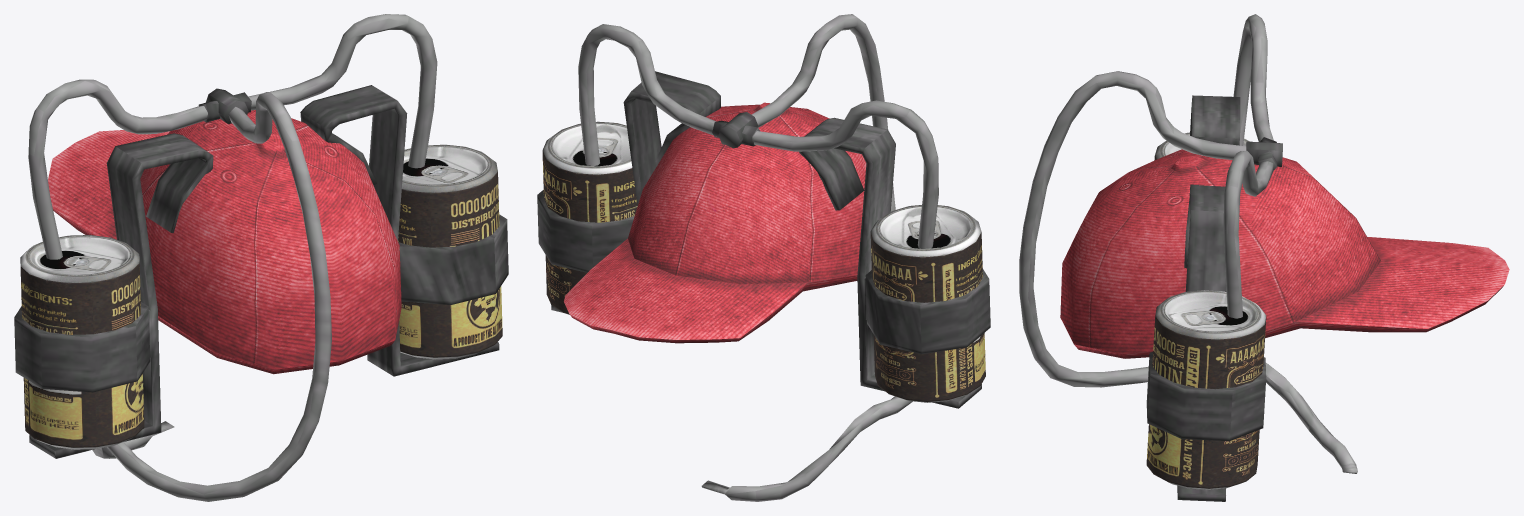
Rendered from beer_hat.glb.
3 views of the same model, side by side, from view 1: azimuth 30°, elevation 25°; view 2: azimuth 150°, elevation 25°; view 3: azimuth 270°, elevation 25° (orthographic). The views are drawn at different scales.
Parts seen in each view (by area): view 1: cosmetic_beer hat; view 2: cosmetic_beer hat; view 3: cosmetic_beer hat.
Part boxes in pixels (left/top/right/bottom): cosmetic_beer hat: left=14, top=14, right=508, bottom=501; cosmetic_beer hat: left=537, top=14, right=990, bottom=501; cosmetic_beer hat: left=1019, top=14, right=1509, bottom=501.
Size of the model in its own units: 0.9828 by 0.8731 by 0.9642.
2 materials, 2 textured.
